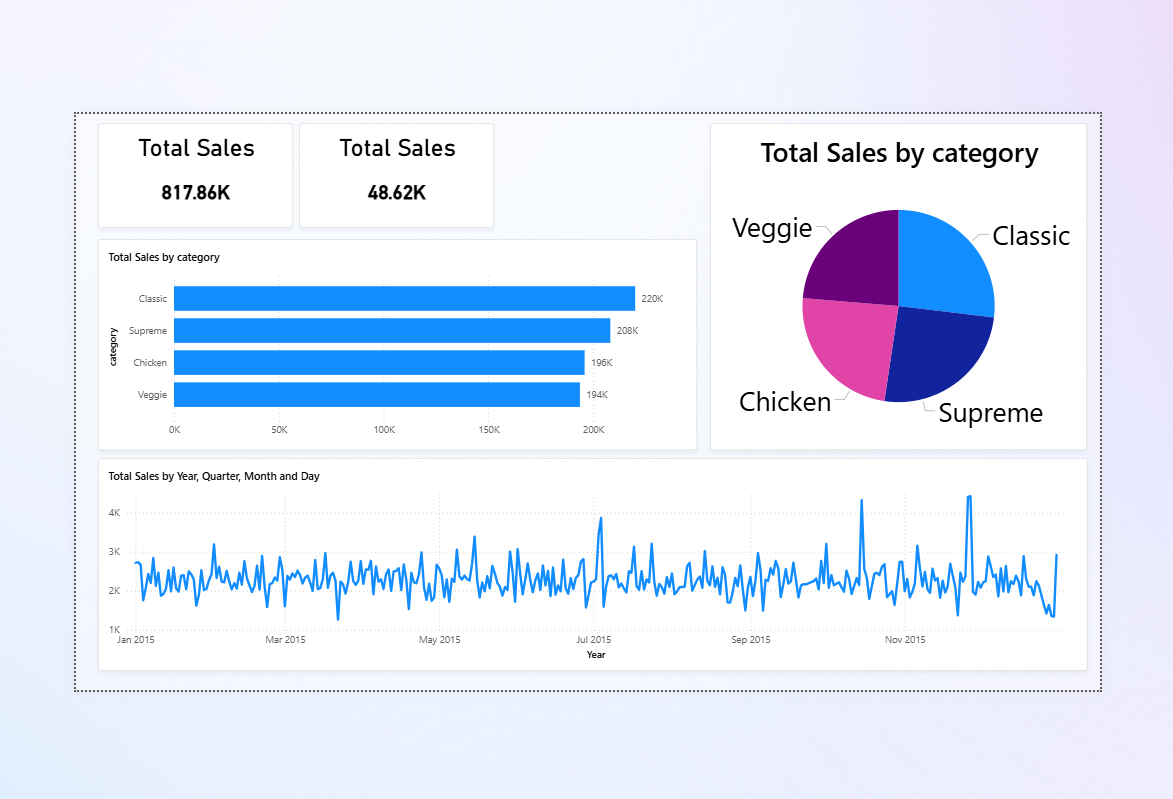

The page's visual inventory and layout, read from the dashboard file:
{"tool":"powerbi","page":{"name":"Page 1","canvas":[1280,720],"ordinal":0},"visuals":[{"type":"barChart","fields":{"Category":["pizza_types.category"],"Y":["order_details.Total Sales"]},"box":[27.1,155.7,748.6,264.3],"z":0},{"type":"lineChart","fields":{"Y":["order_details.Total Sales"],"Category":["orders.date.Variation.Date Hierarchy.Year","orders.date.Variation.Date Hierarchy.Quarter","orders.date.Variation.Date Hierarchy.Month","orders.date.Variation.Date Hierarchy.Day"]},"box":[27.1,430,1237.1,265.7],"z":1000},{"type":"pieChart","fields":{"Category":["pizza_types.category"],"Y":["order_details.Total Sales"]},"box":[792.9,11.4,471.4,408.6],"z":2000},{"type":"card","title":"Total Sales","fields":{"Values":["order_details.Total Sales"]},"box":[27.1,11.4,244.3,131.4],"z":4000},{"type":"card","title":"Total Sales","fields":{"Values":["CountNonNull(order_details.order_details_id)"]},"box":[278.6,11.4,244.3,131.4],"z":4001}]}

Visuals, with their boxes on the page's 1280x720 design canvas (x1, y1, x2, y2). These are canvas units, not pixel positions in the 1173x799 screenshot, which may show the page scaled, cropped or inside an application window:
barChart - pizza_types.category x order_details.Total Sales: bbox=[27, 156, 776, 420]
lineChart - order_details.Total Sales x orders.date.Variation.Date Hierarchy.Year: bbox=[27, 430, 1264, 696]
pieChart - pizza_types.category x order_details.Total Sales: bbox=[793, 11, 1264, 420]
"Total Sales" card: bbox=[27, 11, 271, 143]
"Total Sales" card: bbox=[279, 11, 523, 143]
